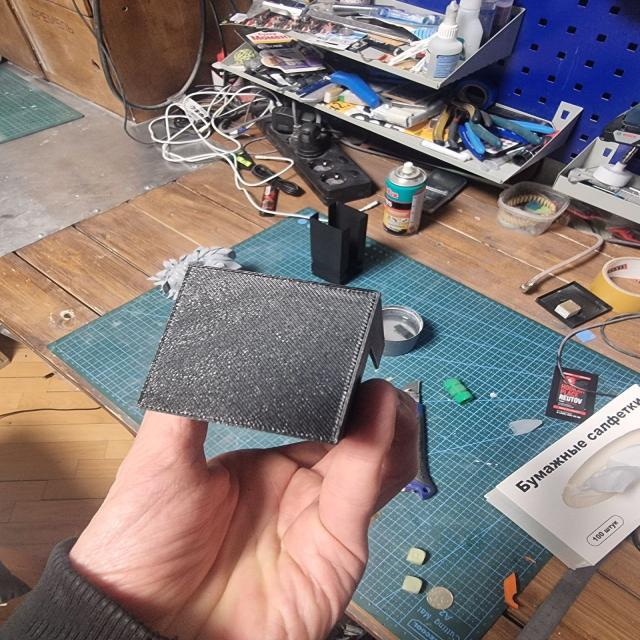Without deffect: (117, 248, 403, 456)
